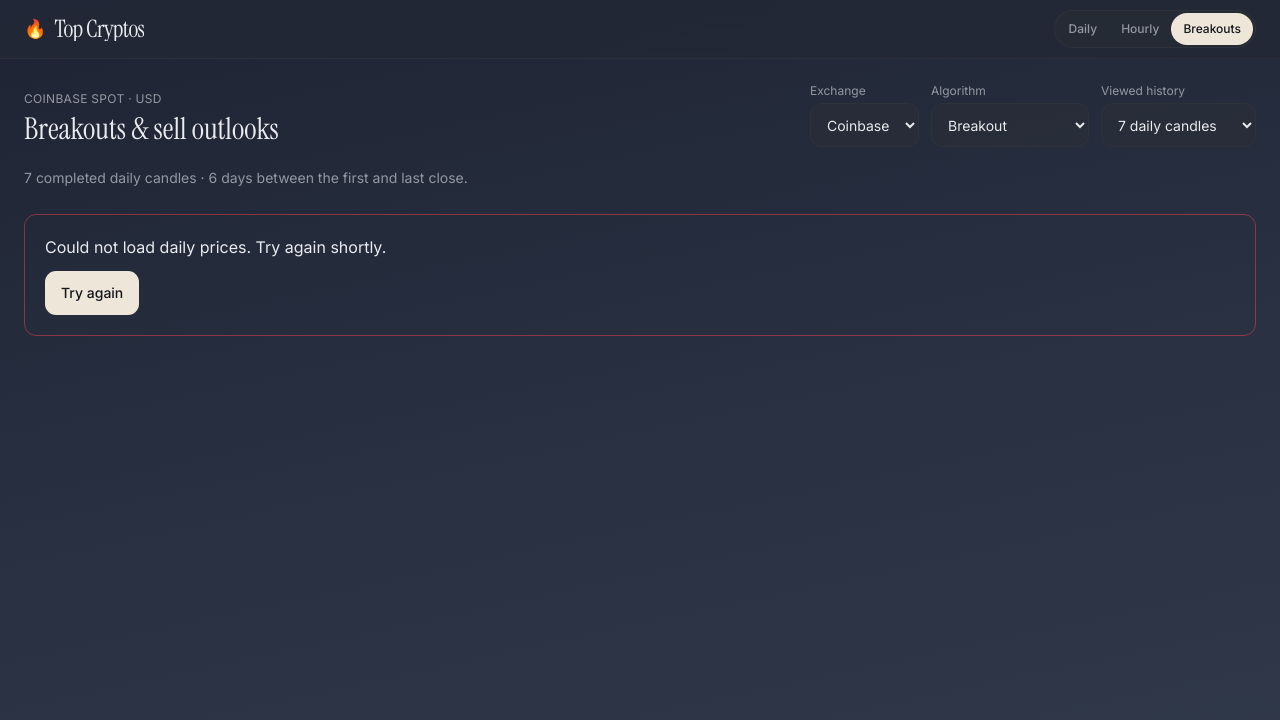
Test: shows a fetch error and retries without retaining old rows
Expected: the message "Could not load daily prices. Try again shortly. Try again" is shown, x1=24 y1=214 x2=1256 y2=336
Expected: the text "BTCUSDT" is not shown
Click the button "Try again" at {"x": 92, "y": 293}, box x1=45 y1=271 x2=139 y2=315
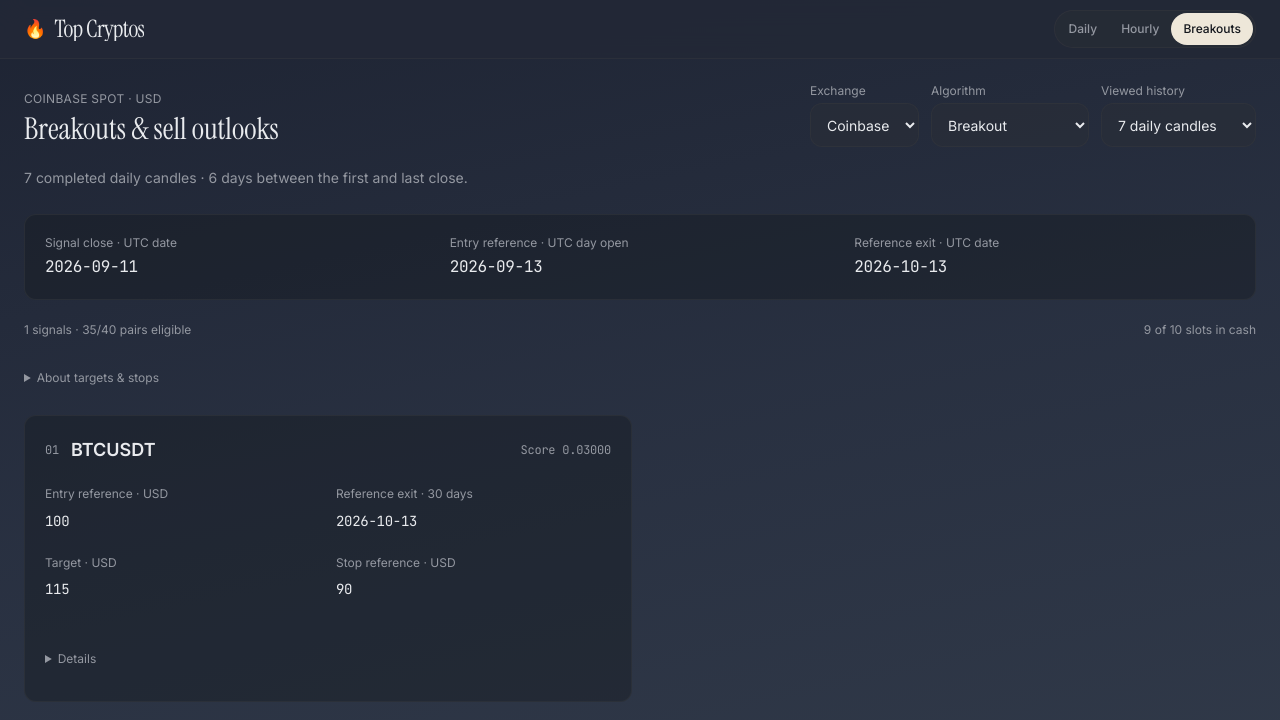
Now the message "Could not load daily prices. Try again shortly. Try again" is gone
Now the text "BTCUSDT" is shown, box x1=71 y1=436 x2=156 y2=464
